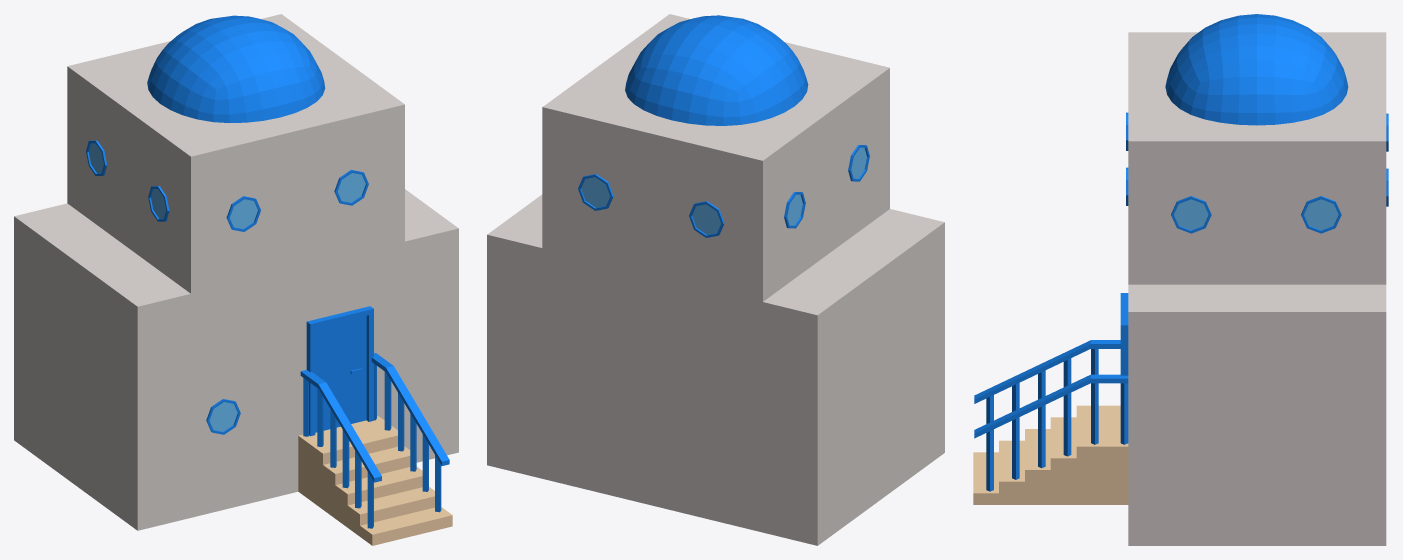
The model's file is casa1.fbx.
3 renders of one model, left to right at view 1: azimuth 30°, elevation 25°; view 2: azimuth 150°, elevation 25°; view 3: azimuth 270°, elevation 25°, orthographic. The views are drawn at different scales.
Visible parts, largest first — view 1: primo piano, secondo piano, cupola, scale, porta, ringhiera.001, imbotto_Porta, ringhiera, corrimano.001, corrimano, finestra.008, finestra.001 (+1 smaller); view 2: primo piano, secondo piano, cupola, finestra.005, finestra.004; view 3: primo piano, secondo piano, cupola, scale, ringhiera, corrimano, corrimano.001, ringhiera.001, finestra.007, finestra.006, imbotto_Porta.
Boxes of the visible parts, left/top/right/bottom form: primo piano: left=14, top=189, right=458, bottom=530; secondo piano: left=67, top=14, right=404, bottom=293; cupola: left=147, top=15, right=325, bottom=122; scale: left=298, top=416, right=452, bottom=545; porta: left=315, top=316, right=366, bottom=432; ringhiera.001: left=303, top=378, right=373, bottom=528; imbotto_Porta: left=306, top=306, right=373, bottom=436; ringhiera: left=374, top=364, right=441, bottom=512; corrimano.001: left=300, top=370, right=381, bottom=482; corrimano: left=371, top=353, right=449, bottom=465; finestra.008: left=209, top=402, right=237, bottom=431; finestra.001: left=337, top=173, right=365, bottom=202; primo piano: left=487, top=194, right=944, bottom=545; secondo piano: left=542, top=14, right=889, bottom=301; cupola: left=625, top=15, right=808, bottom=125; finestra.005: left=692, top=204, right=720, bottom=234; finestra.004: left=581, top=177, right=609, bottom=207; primo piano: left=1128, top=284, right=1386, bottom=545; secondo piano: left=1128, top=32, right=1386, bottom=284; cupola: left=1165, top=14, right=1348, bottom=125; scale: left=973, top=405, right=1128, bottom=504; ringhiera: left=986, top=383, right=1128, bottom=491; corrimano: left=974, top=374, right=1128, bottom=438; corrimano.001: left=974, top=340, right=1120, bottom=403; ringhiera.001: left=986, top=349, right=1098, bottom=423; finestra.007: left=1304, top=199, right=1338, bottom=230; finestra.006: left=1174, top=199, right=1208, bottom=230; imbotto_Porta: left=1120, top=293, right=1128, bottom=375.
Bounding box in the file's own units: 300 × 376 × 322.
